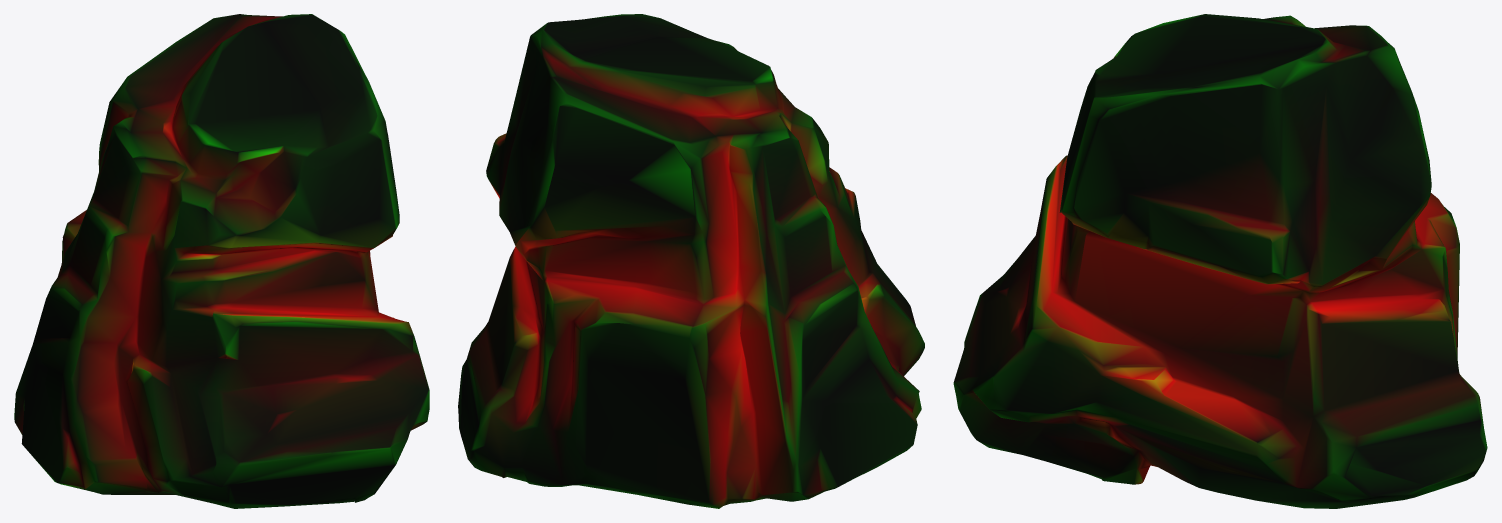
The model's file is SM_Marshland_LargeChunkyCliff_new.FBX.
The picture shows the model from 3 angles, left to right: view 1: azimuth 30°, elevation 25°; view 2: azimuth 150°, elevation 25°; view 3: azimuth 270°, elevation 25°; orthographic projection. The views are drawn at different scales.
Visible parts, largest first — view 1: SM_Marshland_LargeChunkyCliff; view 2: SM_Marshland_LargeChunkyCliff; view 3: SM_Marshland_LargeChunkyCliff.
Part boxes in pixels (x1,y1,x2,y2): SM_Marshland_LargeChunkyCliff: (14,14,429,508); SM_Marshland_LargeChunkyCliff: (458,14,924,508); SM_Marshland_LargeChunkyCliff: (953,14,1487,508).
Size of the model in its own units: 3911 by 4214 by 3905.
